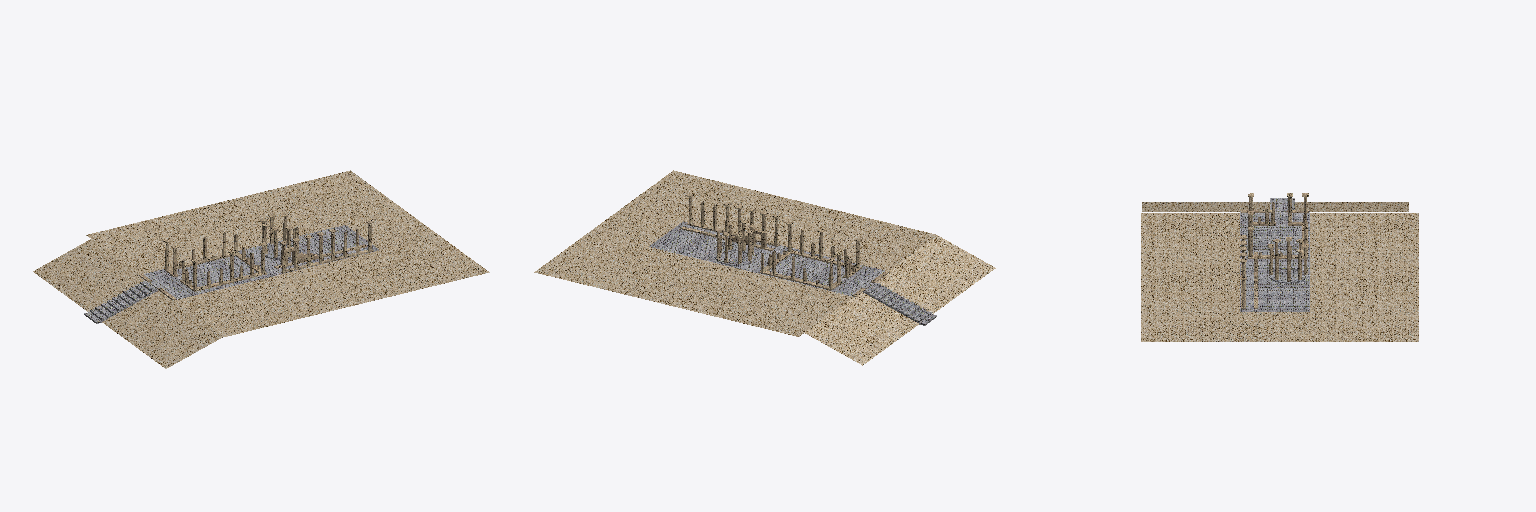
3 views of the same model, side by side, from view 1: azimuth 30°, elevation 25°; view 2: azimuth 150°, elevation 25°; view 3: azimuth 270°, elevation 25° (orthographic).
Visible parts, largest first — view 1: Plane003, Plane002, Cylinder003, StraightStair001; view 2: Plane003, Plane002, Cylinder003, StraightStair001; view 3: Plane003, Cylinder003, Plane002.
Boxes of the visible parts, <box> form: Plane003: <box>86,170,489,336</box>; Plane002: <box>33,239,223,368</box>; Cylinder003: <box>138,225,378,300</box>; StraightStair001: <box>84,281,157,323</box>; Plane003: <box>534,170,936,336</box>; Plane002: <box>805,235,995,365</box>; Cylinder003: <box>649,221,884,296</box>; StraightStair001: <box>863,283,936,325</box>; Plane003: <box>1141,213,1418,341</box>; Cylinder003: <box>1240,211,1309,311</box>; Plane002: <box>1142,202,1408,211</box>.
Size of the model in its own units: 107 by 15.24 by 78.74.
Materials: 8 (3 with a texture image).